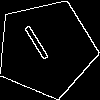I: (21, 23, 57, 70)
